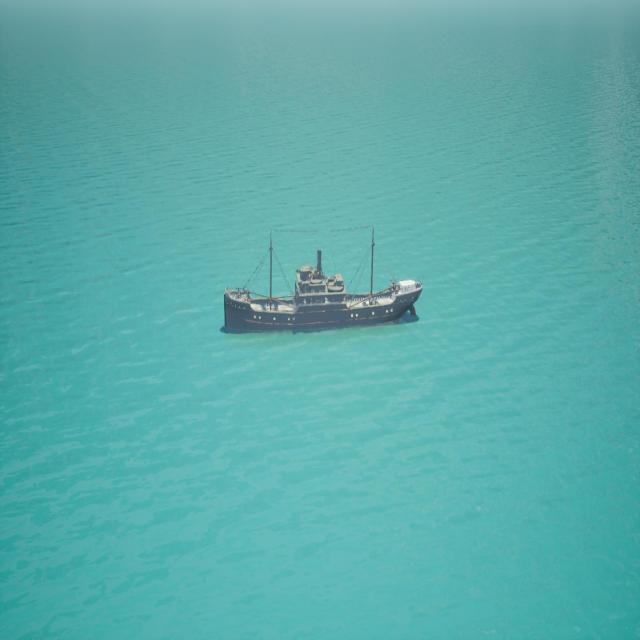fishing ship: (225, 228, 422, 336)
